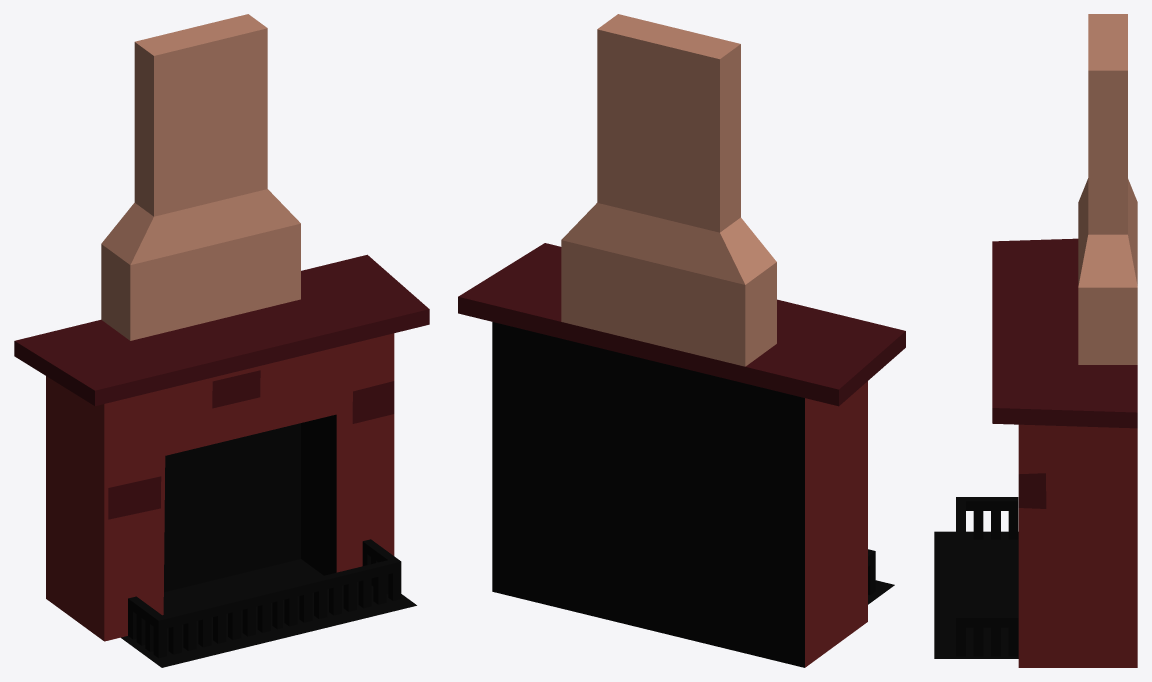
Rendered from Fireplace.fbx.
3 renders of one model, left to right at view 1: azimuth 30°, elevation 25°; view 2: azimuth 150°, elevation 25°; view 3: azimuth 270°, elevation 25°, orthographic. The views are drawn at different scales.
Parts seen in each view (by area): view 1: Fireplace, Cube.004; view 2: Fireplace; view 3: Fireplace, Cube.004.
Boxes of the visible parts, x1=… form: Fireplace: x1=14, y1=14, x2=429, y2=667; Cube.004: x1=128, y1=539, x2=401, y2=658; Fireplace: x1=458, y1=14, x2=905, y2=667; Fireplace: x1=934, y1=14, x2=1137, y2=667; Cube.004: x1=956, y1=497, x2=1018, y2=656.
Bounding box in the file's own units: 90.84 × 133 × 44.48.
